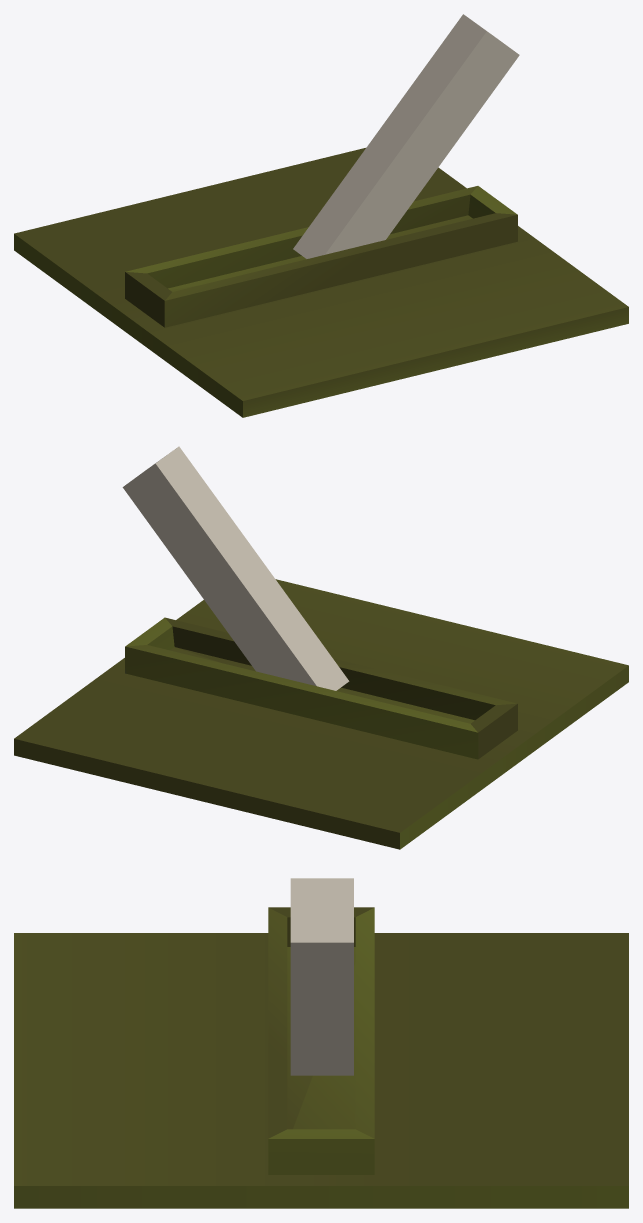
The model's file is Leaver.fbx.
3 views of the same model, one above another, from view 1: azimuth 30°, elevation 25°; view 2: azimuth 150°, elevation 25°; view 3: azimuth 270°, elevation 25° (orthographic). The views are drawn at different scales.
Parts seen in each view (by area): view 1: pCube7; view 2: pCube7; view 3: pCube7.
Part boxes in pixels (x1=…): pCube7: x1=14, y1=14, x2=628, y2=417; pCube7: x1=14, y1=446, x2=628, y2=849; pCube7: x1=14, y1=878, x2=628, y2=1208.
Size of the model in its own units: 1.77 by 0.9951 by 1.81.
